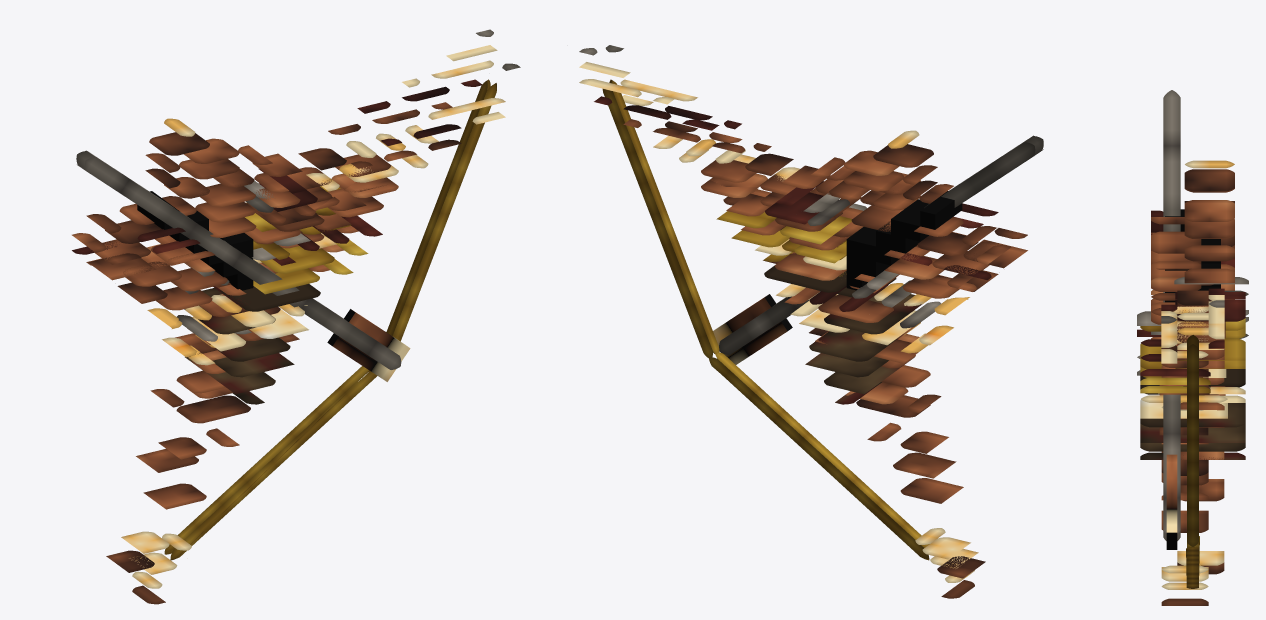
File: dragonbreath_bow_pulling_1.obj
3 views of the same model, side by side, from view 1: azimuth 30°, elevation 25°; view 2: azimuth 150°, elevation 25°; view 3: azimuth 270°, elevation 25° (orthographic). The views are drawn at different scales.
Visible parts, largest first — view 1: lit, fire; view 2: lit, fire; view 3: lit, fire.
Part boxes in pixels (<box>): lit: <box>72,29,520,604</box>; fire: <box>137,191,410,381</box>; lit: <box>579,45,1043,598</box>; fire: <box>713,191,962,364</box>; lit: <box>1137,90,1248,605</box>; fire: <box>1165,209,1220,549</box>.
Size of the model in its own units: 1.08 by 1.05 by 0.2096.
